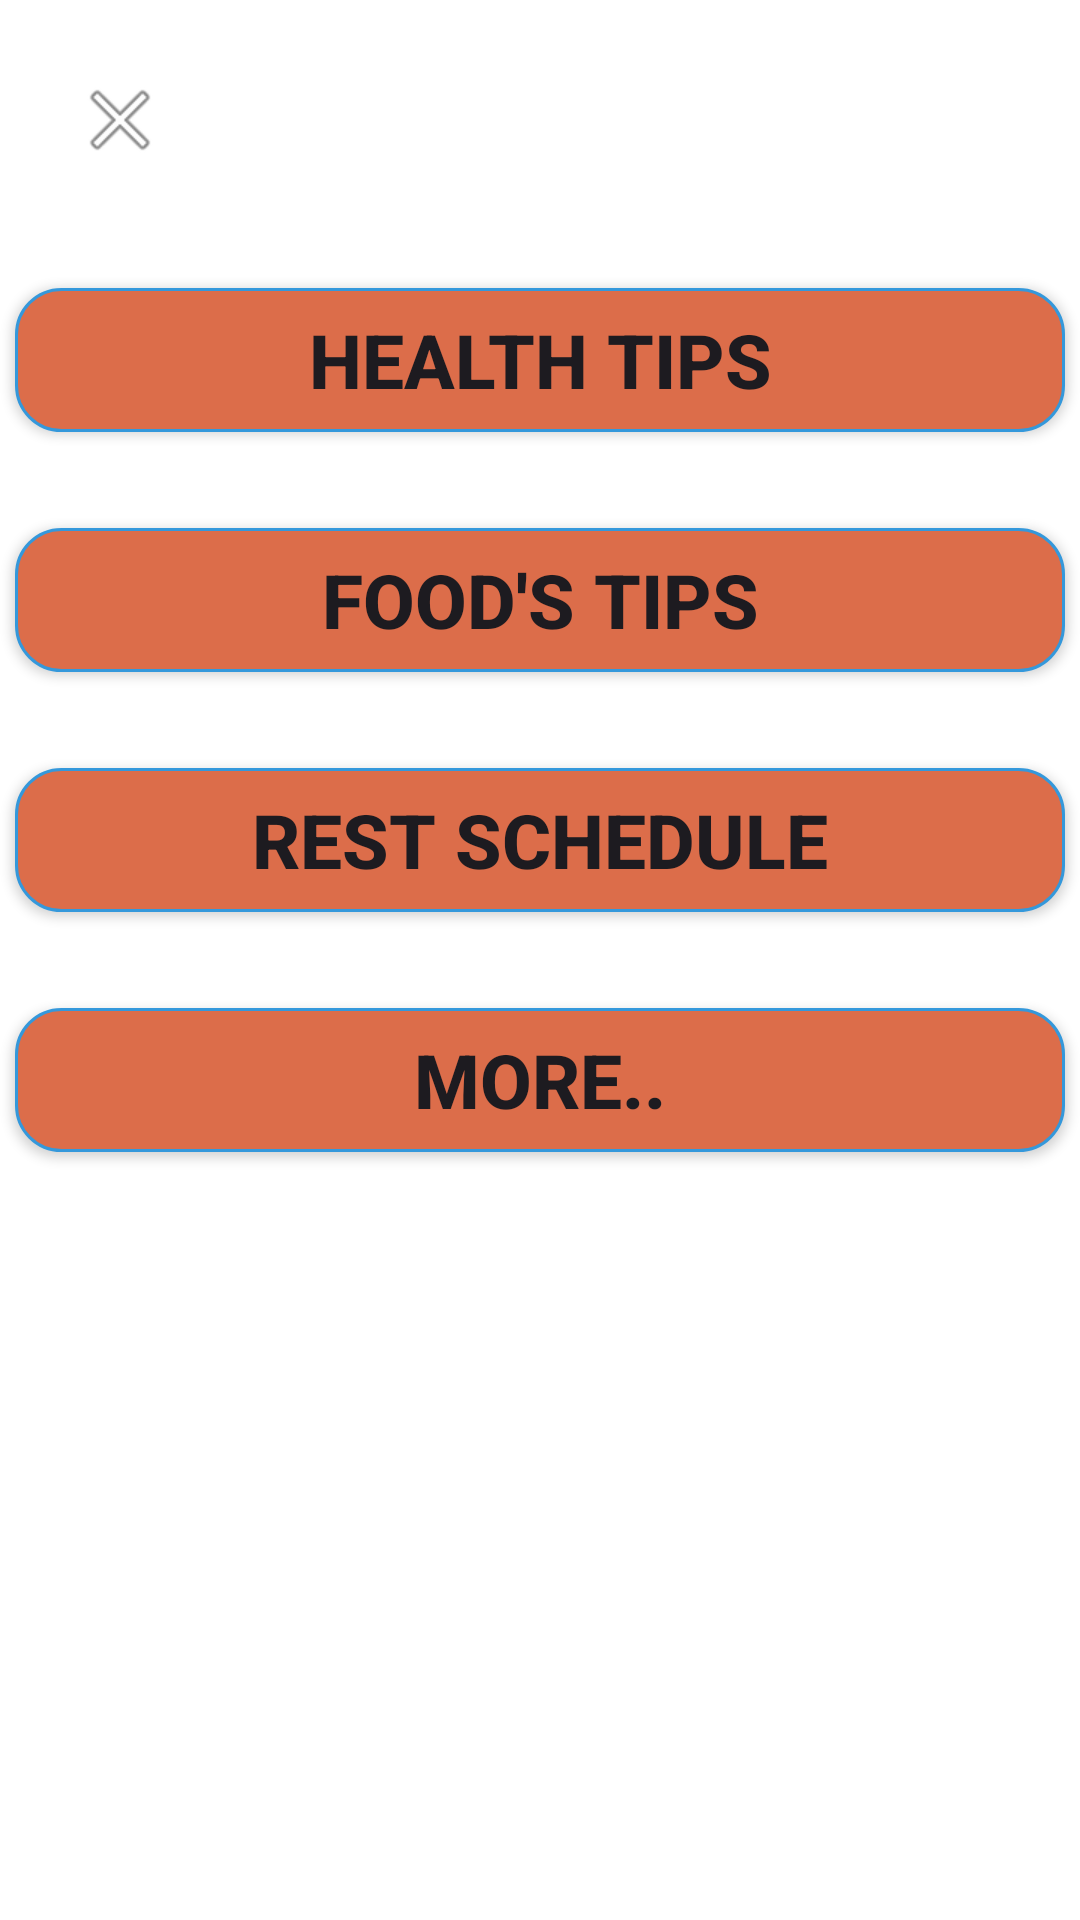

Icon click points for this 1080*1920 phone screenshot, format (x,y):
close clear cancel: (120,120)
